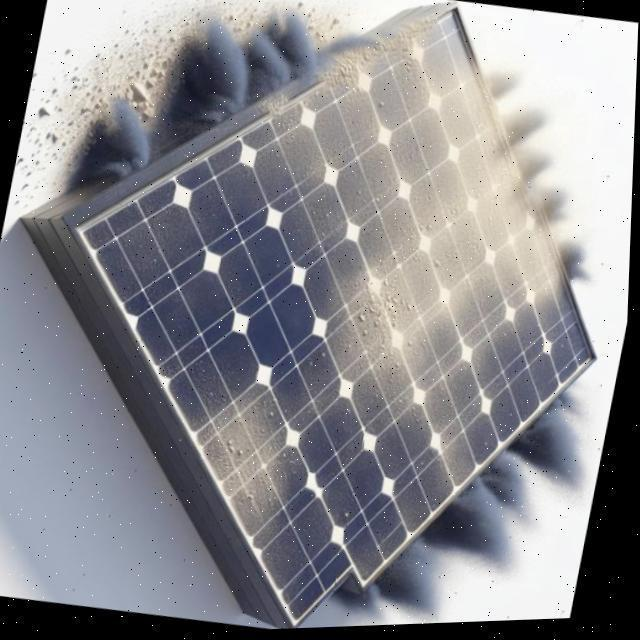Anomaly Solar Panel: (78, 6, 630, 631)
Surface Contaminant: (78, 8, 630, 623)
